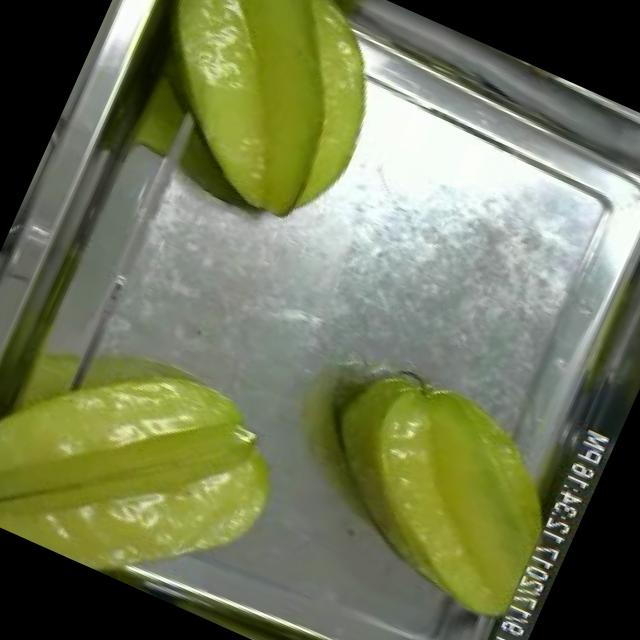fruit: (0, 286, 325, 631), (296, 349, 594, 640), (90, 0, 425, 250)
